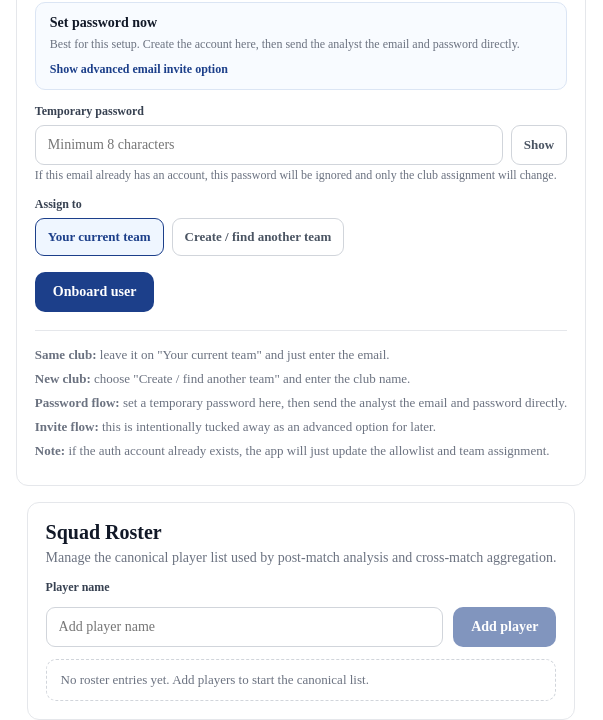
Test: AdminPanel › adds roster players and toggles their active state
(page scrolled)
Type "Cian Murphy" into the field with placeholder "Add player name".
click(244, 627); type("Cian Murphy")  # box [46, 607, 443, 647]
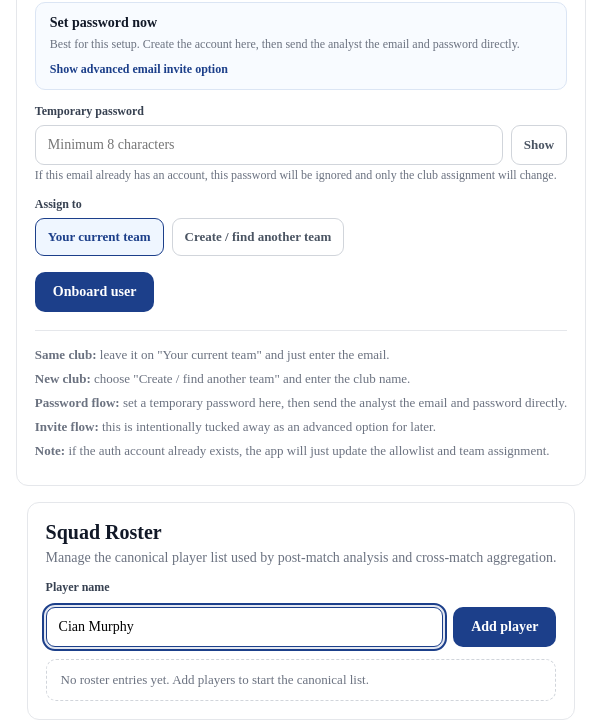
Click the button "Add player".
click(505, 627)  # box [453, 607, 556, 647]
(page scrolled)
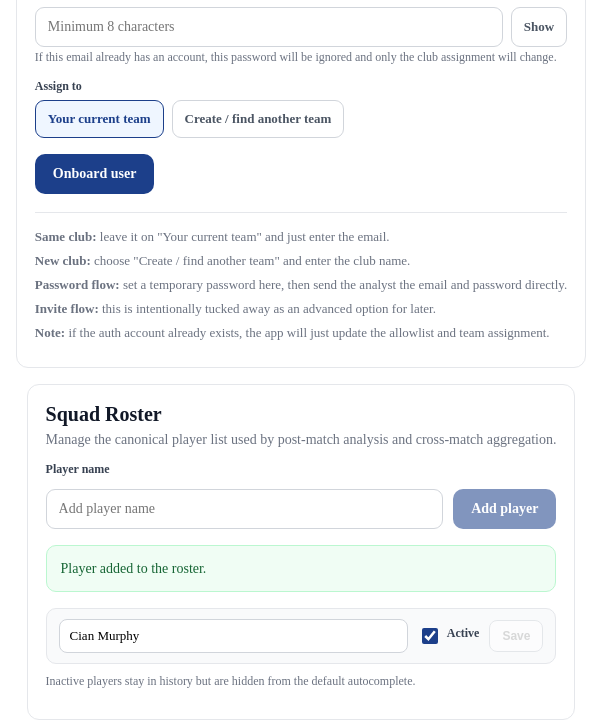
expect the field showing "Cian Murphy" is shown: met, box [59, 619, 408, 653]
expect the text "Player added to the roster." is shown: met, box [46, 545, 556, 592]
Click the checkbox.
click(430, 636)  # box [422, 628, 438, 644]
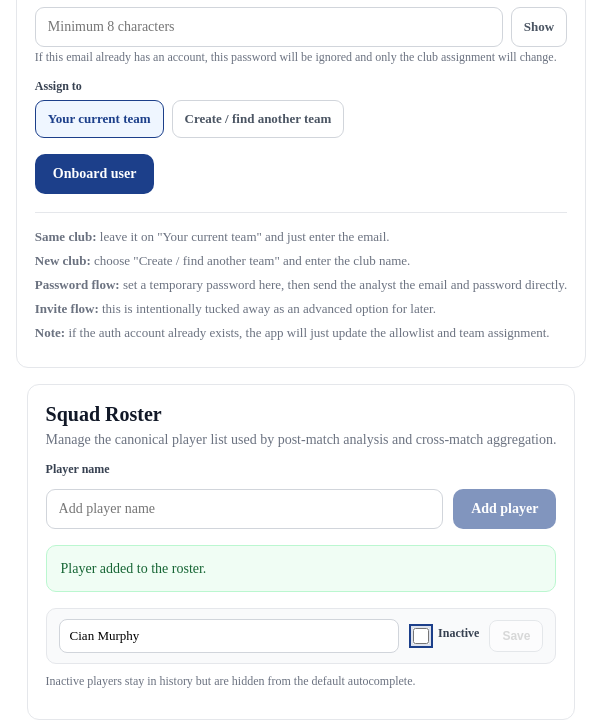
expect the text "Inactive" is shown: met, box [438, 626, 479, 640]
